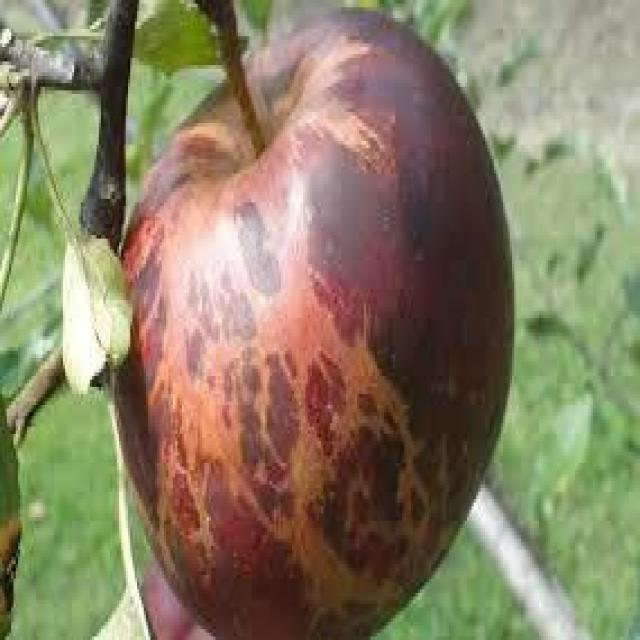Rotten: (118, 4, 514, 640)
